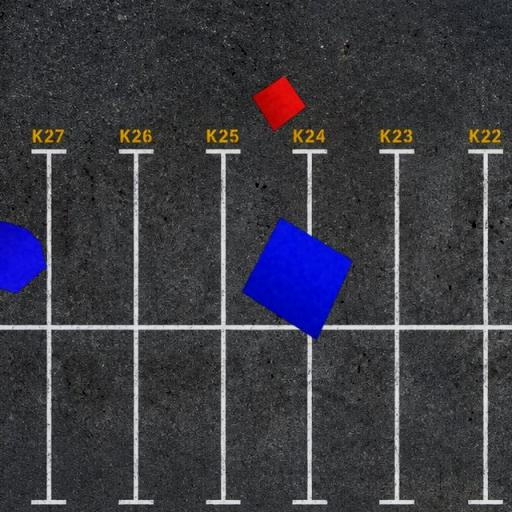BLUE_SQUARE: (240, 216, 354, 342)
RED_SQUARE: (251, 75, 307, 133)
